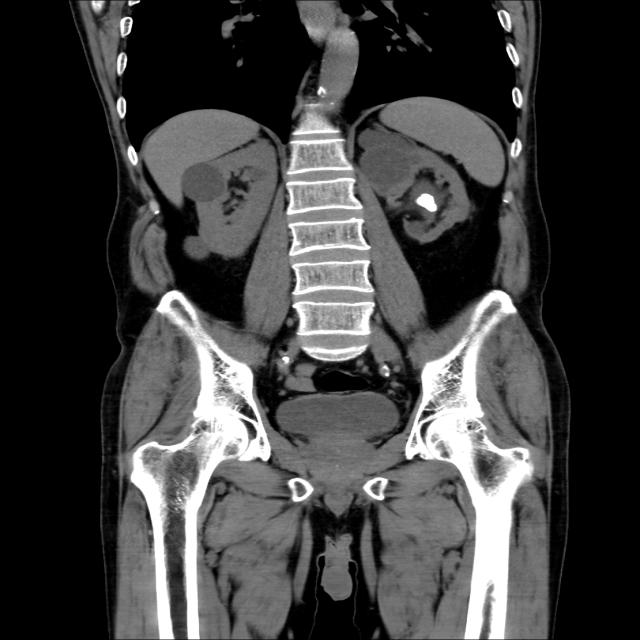kidneystone: (415, 194, 437, 212)
